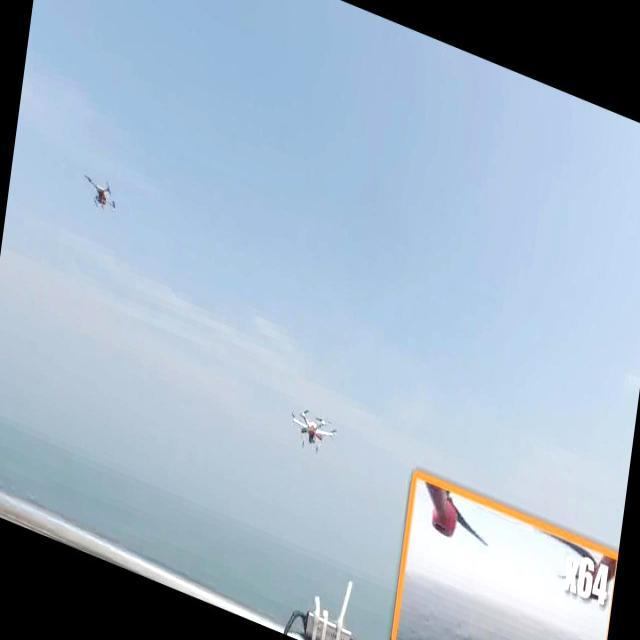drone: (284, 395, 340, 469), (80, 161, 124, 226)
